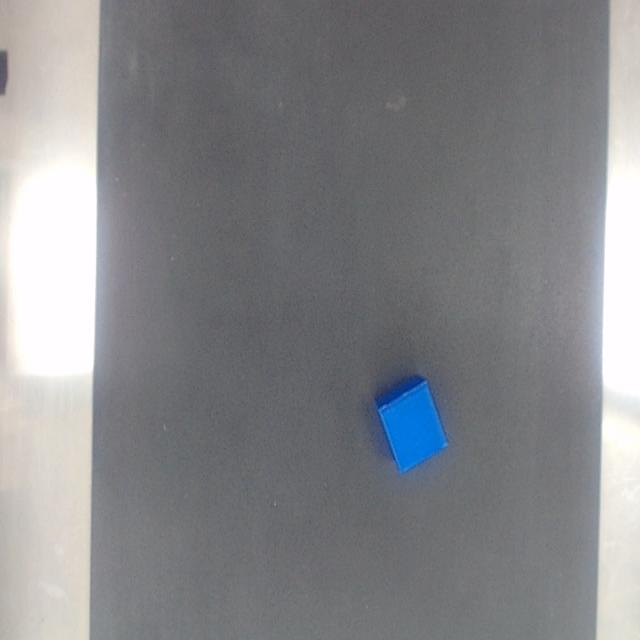Azul: (376, 376, 447, 472)
